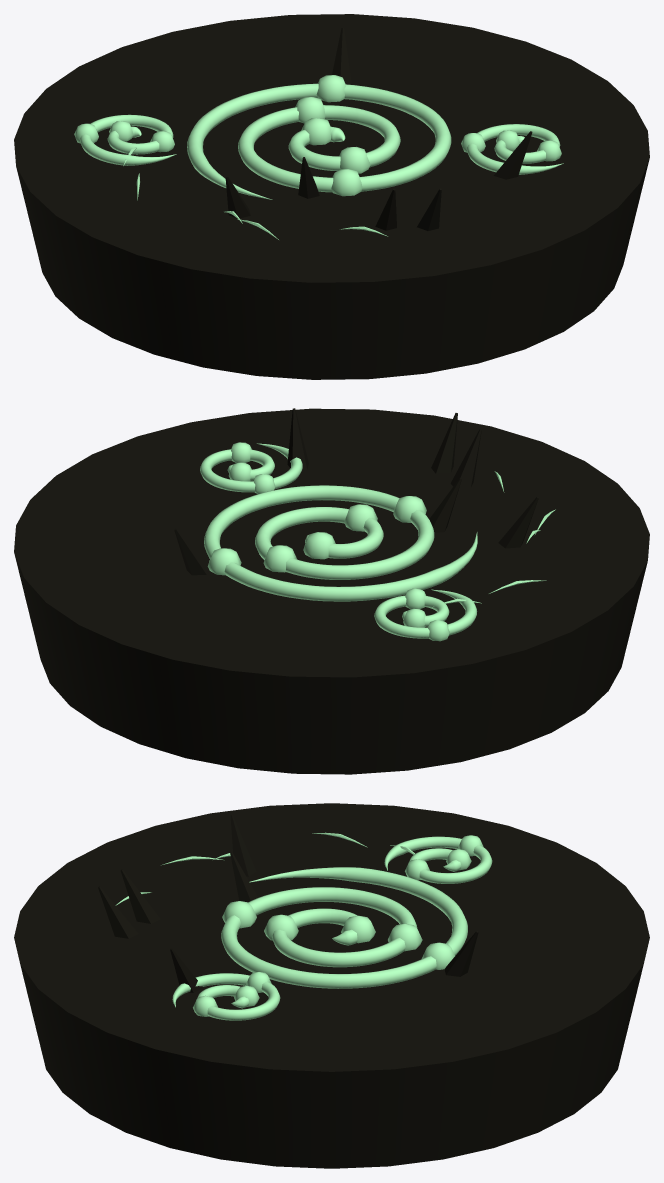
Rendered from dornenschrift_boden.obj.
The picture shows the model from 3 angles, top to bottom: view 1: azimuth 30°, elevation 25°; view 2: azimuth 150°, elevation 25°; view 3: azimuth 270°, elevation 25°; orthographic projection.
Parts seen in each view (by area): view 1: Dornenschrift_Boden; view 2: Dornenschrift_Boden; view 3: Dornenschrift_Boden.
Part boxes in pixels (box(x1,y1,x2,y2)): Dornenschrift_Boden: box(14, 14, 649, 379); Dornenschrift_Boden: box(14, 408, 649, 774); Dornenschrift_Boden: box(14, 803, 649, 1168).
Size of the model in its own units: 2.4 by 0.6458 by 2.4.
